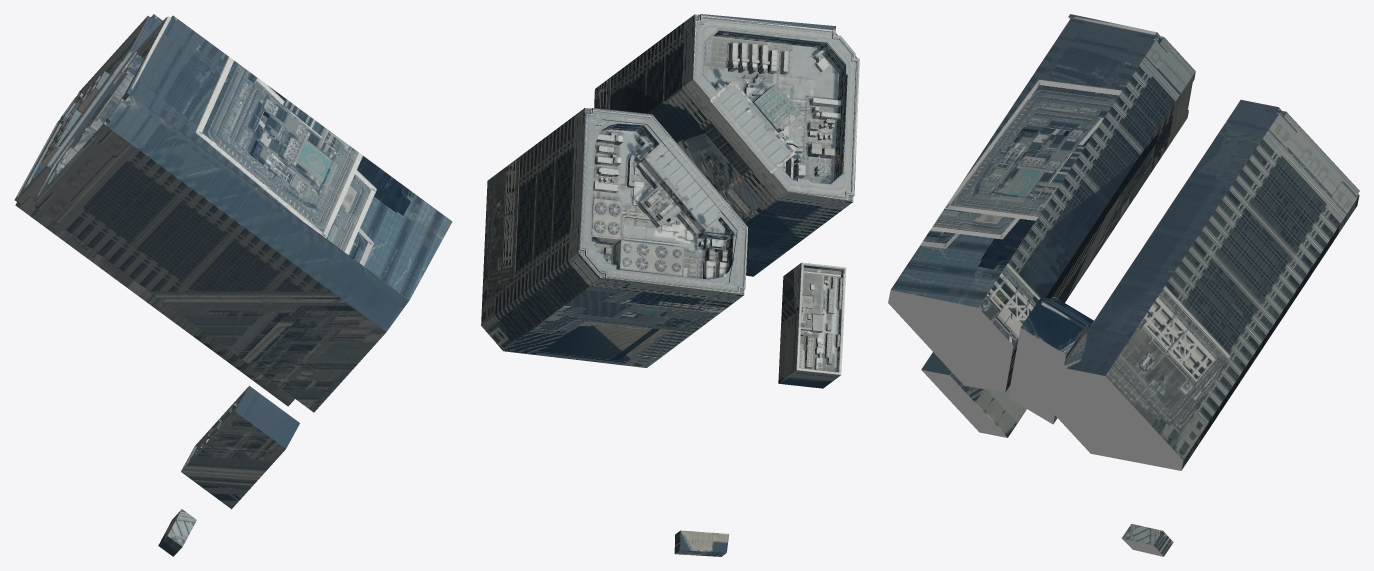
The model's file is data425.glb.
3 views of the same model, side by side, from view 1: azimuth 30°, elevation 25°; view 2: azimuth 150°, elevation 25°; view 3: azimuth 270°, elevation 25° (orthographic). The views are drawn at different scales.
Size of the model in its own units: 133 by 181 by 149.
Materials: 4 (2 with a texture image).
